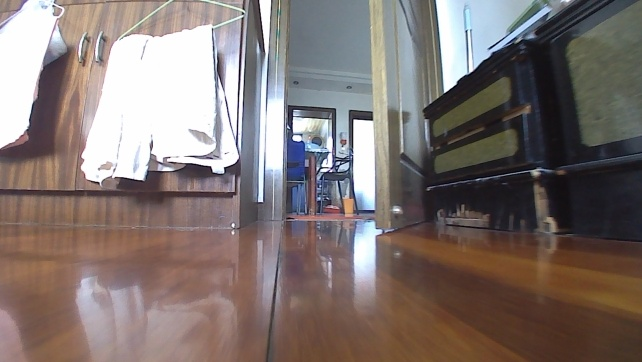dining_table: (285, 134, 360, 220)
door_anno: (362, 0, 447, 234)
